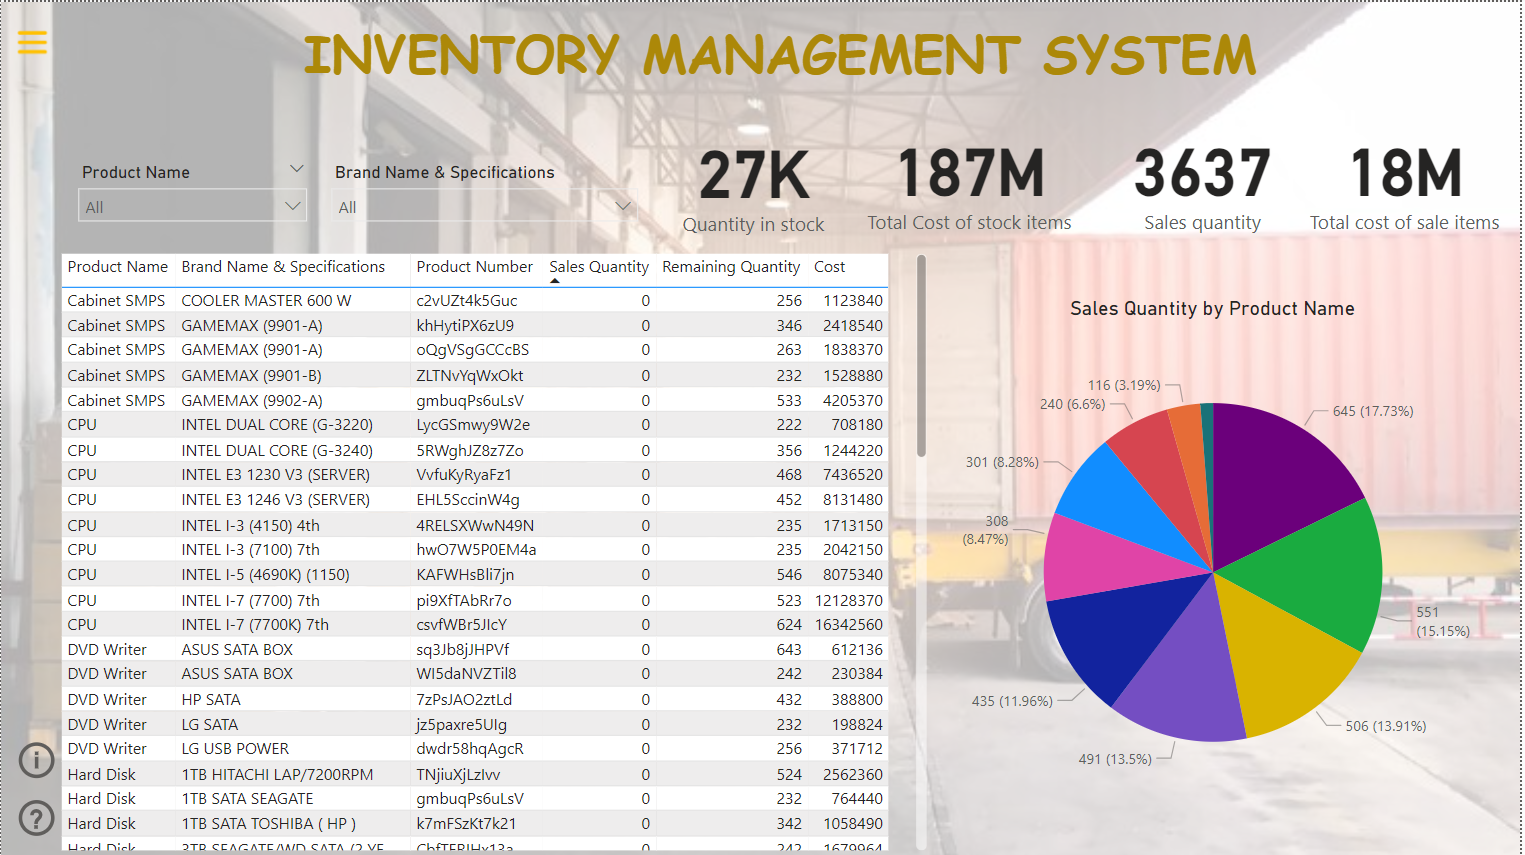

The dashboard page shown, as its layout file describes it:
{"tool":"powerbi","page":{"name":"Inventory","canvas":[1280,720],"ordinal":0},"visuals":[{"type":"slicer","fields":{"Values":["Inventory.Product Name"]},"box":[55.6,129,213.1,78.1],"z":0},{"type":"actionButton","title":"question","box":[9.5,667.7,46.2,40.2],"z":0,"group":"g1"},{"type":"tableEx","fields":{"Values":["Inventory.Product Name","Inventory.Brand Name & Specifications","Inventory.Product Number","Inventory.Sales Quantity","Inventory.Remaining Quantity","Inventory.Cost"]},"box":[44.6,206.9,740.3,513.2],"z":250},{"type":"slicer","fields":{"Values":["Inventory.Brand Name & Specifications"]},"box":[268.7,129,278.2,78.1],"z":500},{"type":"actionButton","title":"info","box":[9.5,619.1,46.2,40.2],"z":1000,"group":"g1"},{"type":"textbox","box":[44.6,7.1,1223.1,79.1],"z":1500},{"type":"group","id":"g1","title":"Menu bar","box":[9,17,46.6,690.9],"z":2000},{"type":"actionButton","title":"menu","box":[9,17,35,35],"z":2000,"group":"g1"},{"type":"card","fields":{"Values":["Sum(Inventory.Cost)"]},"box":[704.4,86.4,222.6,120.7],"z":5000},{"type":"card","fields":{"Values":["Sum(Inventory.Sales Quantity)"]},"box":[926.9,86.2,170.4,120.7],"z":6000},{"type":"card","fields":{"Values":["Sum(Inventory.Remaining Quantity)"]},"box":[546.9,87.6,172.8,120.7],"z":7000},{"type":"pieChart","title":"Sales Quantity by Product Name","fields":{"Category":["Inventory.Product Name"],"Y":["Sum(Inventory.Sales Quantity)"]},"box":[773,248.6,494.8,443.9],"z":9000},{"type":"card","fields":{"Values":["Sum(Inventory.cost of sales items)"]},"box":[1097.3,86.2,170.4,120.7],"z":10000}]}

Visuals, with their boxes in screenshot pixels (x1, y1, x2, y2), scaled from the page's 1280x720 canvas onto the 1525x855 screenshot:
slicer - Inventory.Product Name: x1=66 y1=153 x2=320 y2=246
"question" actionButton: x1=11 y1=793 x2=66 y2=841
tableEx - Inventory.Product Name x Inventory.Brand Name & Specifications: x1=53 y1=246 x2=935 y2=854
slicer - Inventory.Brand Name & Specifications: x1=320 y1=153 x2=652 y2=246
"info" actionButton: x1=11 y1=735 x2=66 y2=783
textbox: x1=53 y1=8 x2=1510 y2=102
"Menu bar" group: x1=11 y1=20 x2=66 y2=841
"menu" actionButton: x1=11 y1=20 x2=52 y2=62
card - Sum(Inventory.Cost): x1=839 y1=103 x2=1104 y2=246
card - Sum(Inventory.Sales Quantity): x1=1104 y1=102 x2=1307 y2=246
card - Sum(Inventory.Remaining Quantity): x1=652 y1=104 x2=857 y2=247
"Sales Quantity by Product Name" pieChart: x1=921 y1=295 x2=1510 y2=822
card - Sum(Inventory.cost of sales items): x1=1307 y1=102 x2=1510 y2=246
